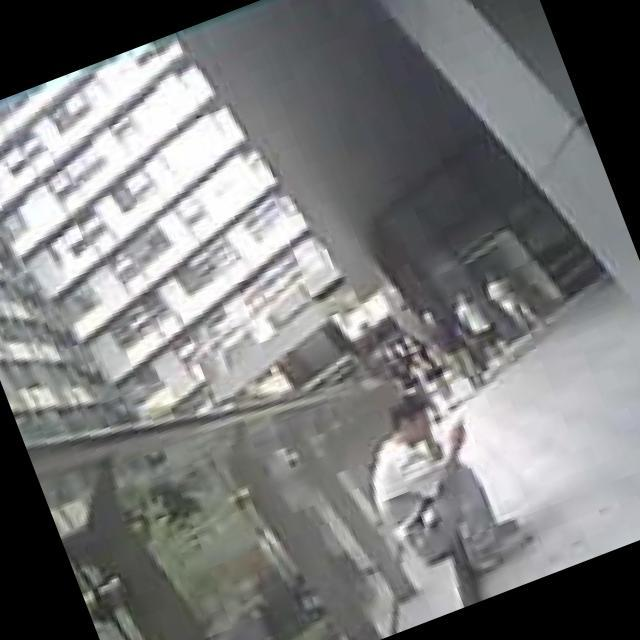person: (343, 378, 528, 604), (418, 292, 488, 398), (450, 277, 518, 373), (392, 322, 450, 417), (484, 262, 546, 344)
